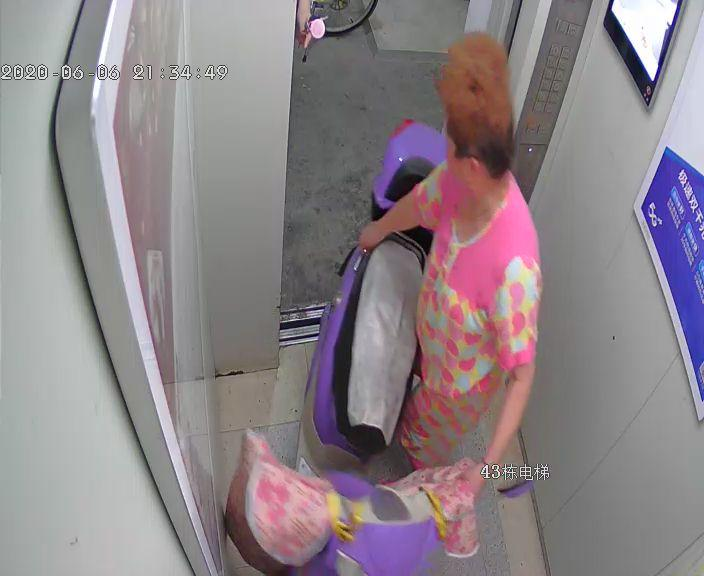Electric-bicycle: (308, 123, 443, 575)
